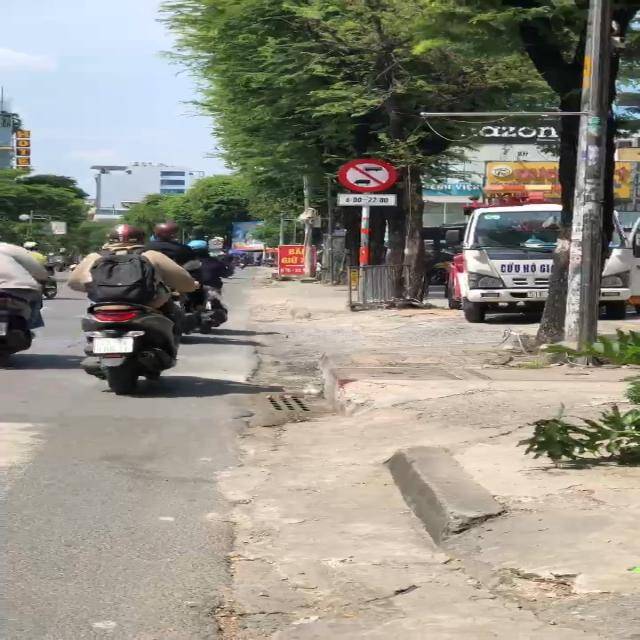Bien bao cam xe oto khach va xe oto tai: (336, 157, 399, 194)
